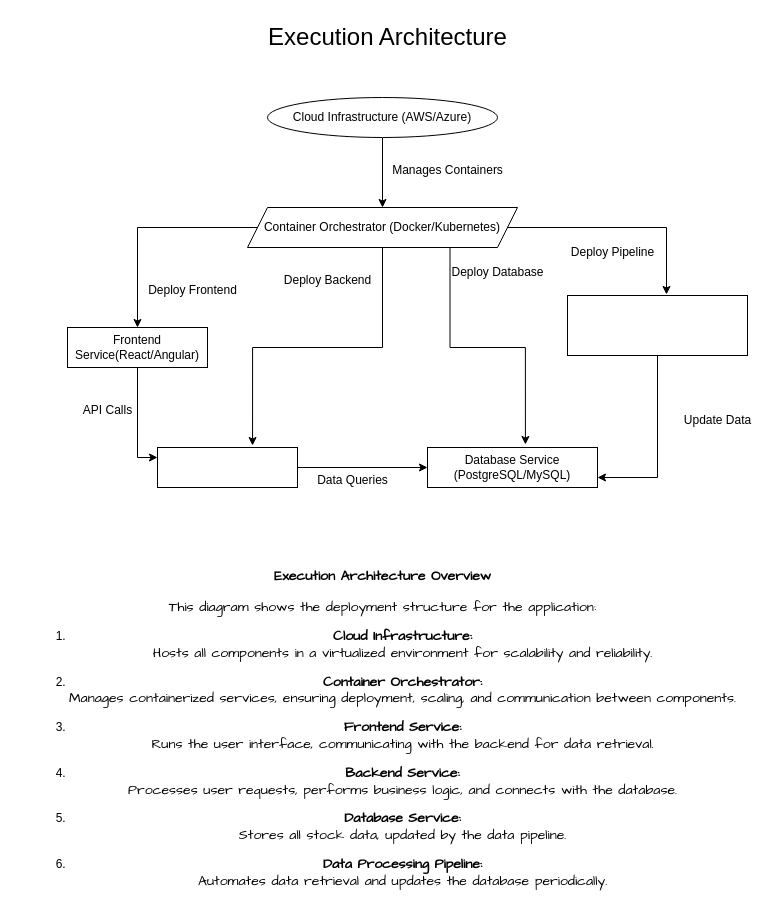
Some shapes in this 779 by 924 pixel diagram are drawn without their labels. The centre of each missing label's shape, as x and y in pixels:
"Backend Service (Flask/Django)" goes at point (227, 467).
"Data Processing Pipeline (Python Scripts)" goes at point (657, 325).
